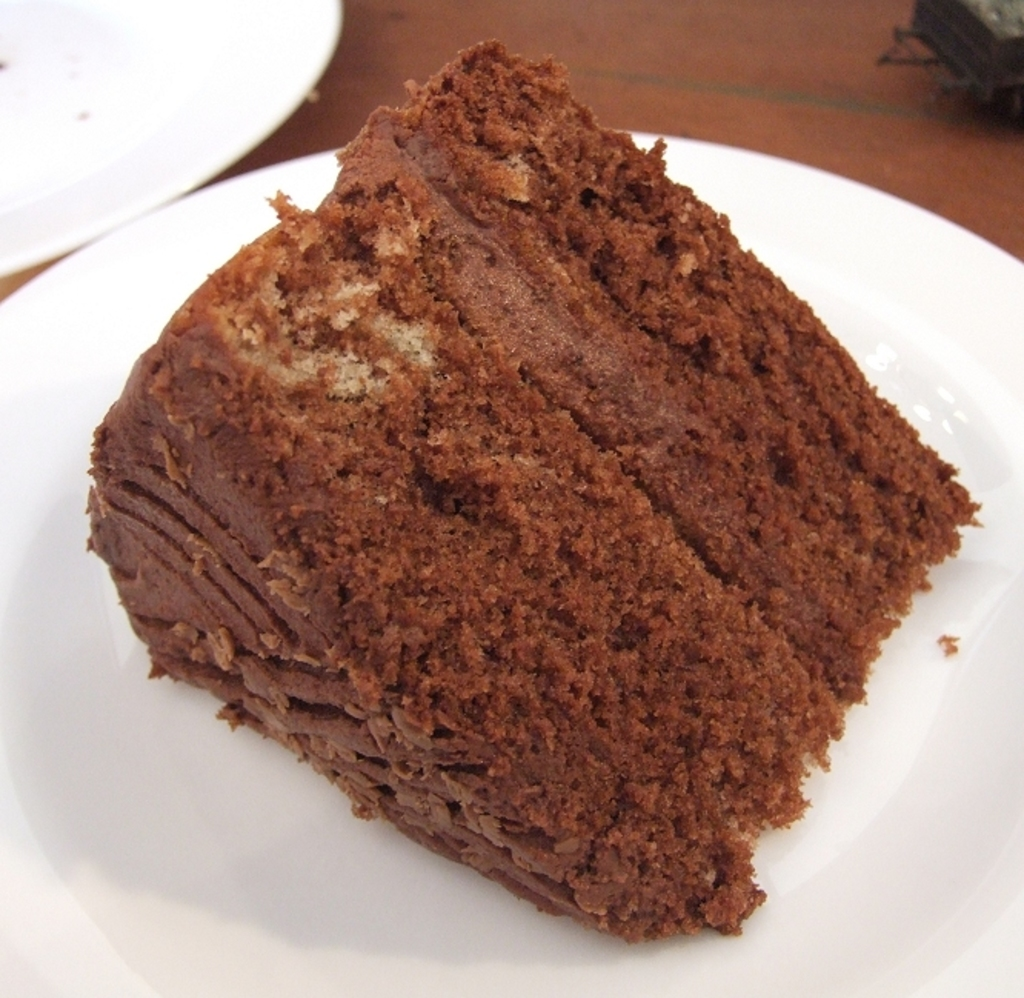cake: (78, 37, 979, 946)
